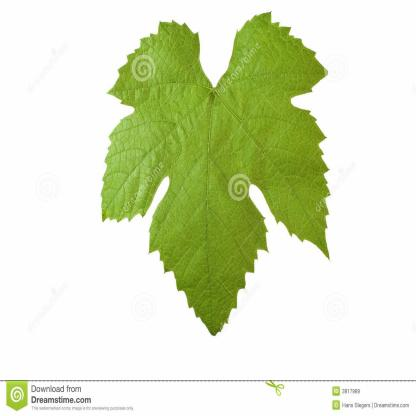grape leaf: (92, 11, 360, 342)
